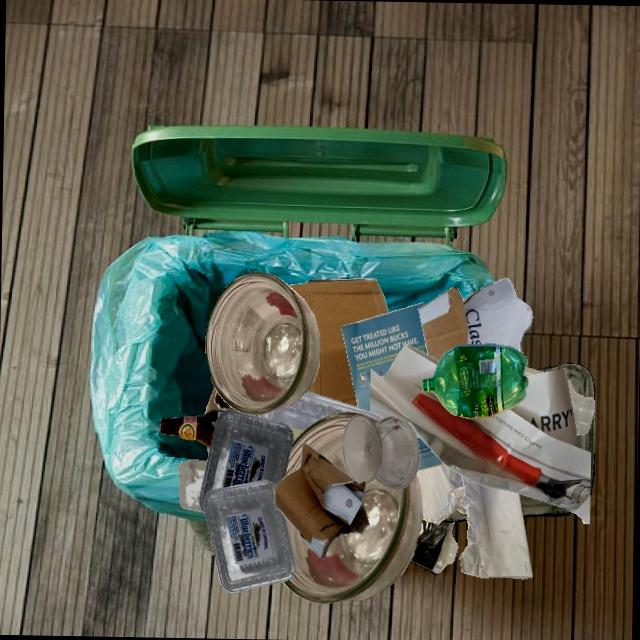cardboard: (287, 278, 388, 407), (274, 442, 369, 558), (418, 277, 532, 360)
glass: (205, 271, 319, 415), (454, 370, 536, 513), (361, 473, 422, 599), (282, 516, 366, 604), (342, 414, 420, 489), (525, 439, 577, 499), (536, 363, 594, 404), (159, 409, 225, 440), (577, 411, 594, 493), (213, 411, 257, 434), (523, 499, 572, 516), (214, 391, 238, 411), (447, 513, 467, 522)
paper: (370, 344, 591, 524), (341, 302, 427, 411), (459, 475, 532, 579), (416, 464, 466, 524)
plastic: (203, 479, 295, 593), (198, 408, 293, 514), (422, 343, 528, 418), (257, 391, 383, 444), (409, 519, 458, 574), (178, 459, 207, 512), (567, 379, 594, 435), (205, 386, 225, 413)
